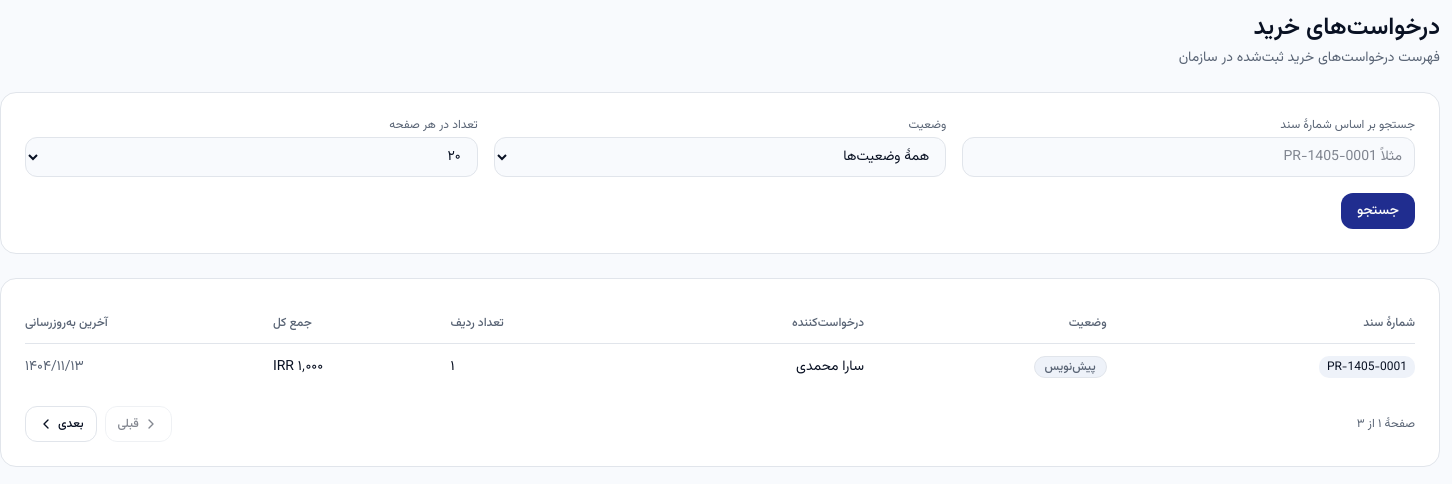
Test case: CommercePurchaseListView › drives pagination from the server total and the requested page
Check: the table is shown, box [25, 303, 1415, 390]
Check: the text with test id "commerce-page-status" reads "صفحهٔ ۱ از ۳", box [1357, 416, 1415, 432]
Click the button with test id "commerce-page-next".
click(61, 424)  # box [25, 406, 96, 442]
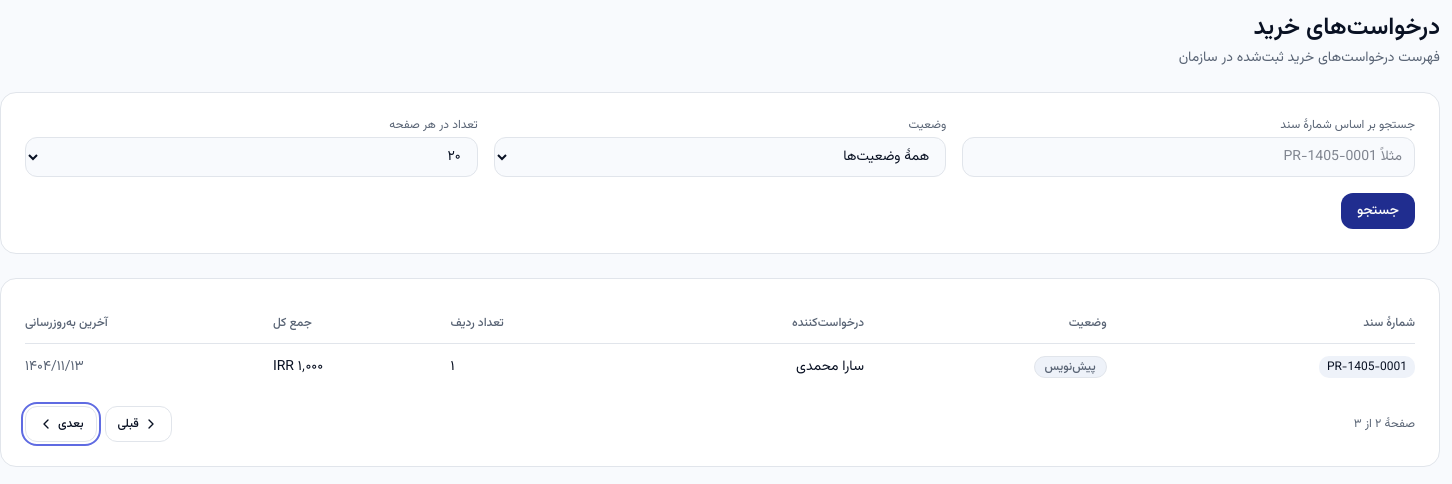
Check: the text "صفحهٔ ۲ از ۳" is shown, box [1354, 416, 1415, 432]
